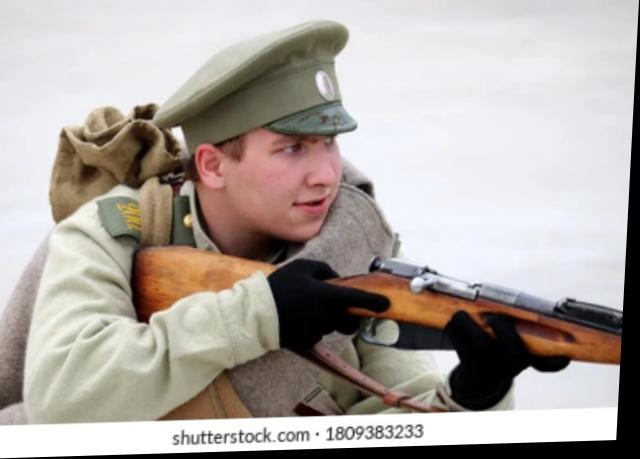other: (28, 23, 416, 418)
